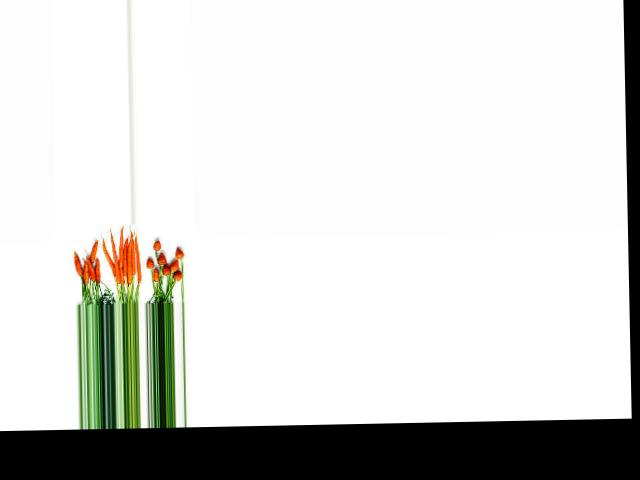carrot: (172, 244, 184, 259)
